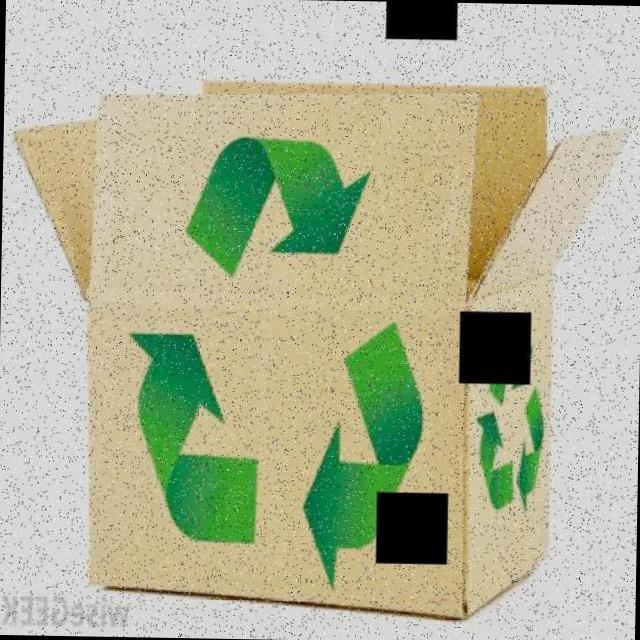box: (7, 54, 634, 622)
